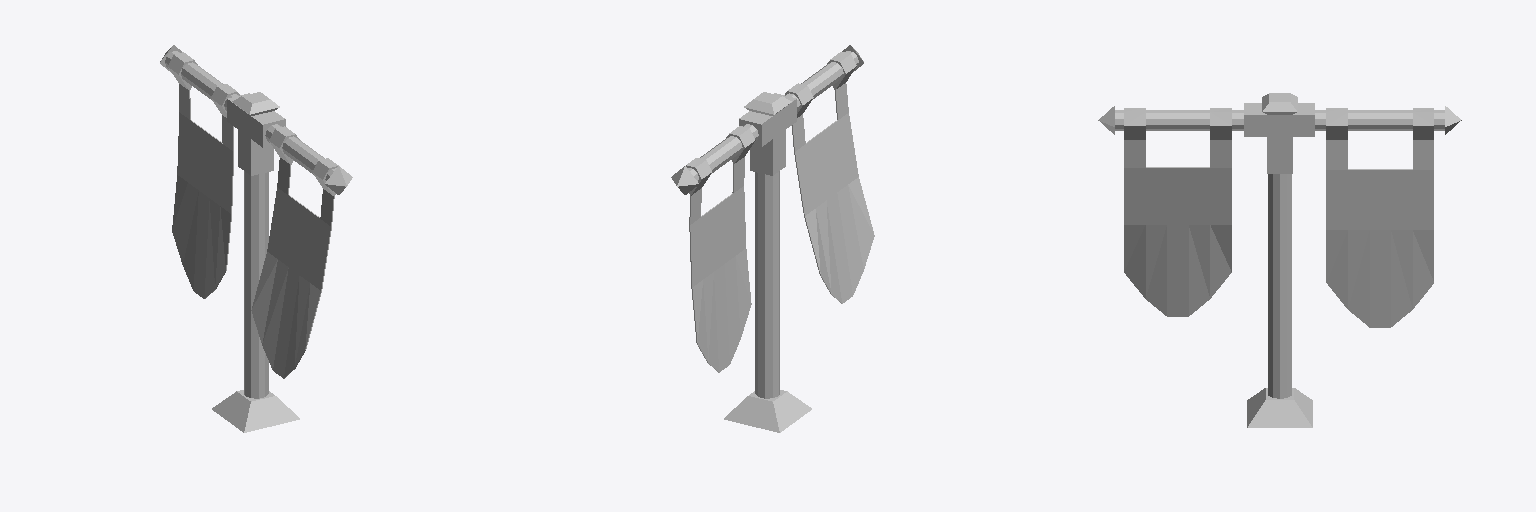
The model's file is FlagBlue5.obj.
The picture shows the model from 3 angles: view 1: azimuth 30°, elevation 25°; view 2: azimuth 150°, elevation 25°; view 3: azimuth 270°, elevation 25°; orthographic projection.
Visible parts, largest first — view 1: polySurface2; view 2: polySurface2; view 3: polySurface2.
Part boxes in pixels (left/top/right/bottom): polySurface2: left=160, top=45, right=352, bottom=432; polySurface2: left=671, top=45, right=874, bottom=432; polySurface2: left=1098, top=93, right=1461, bottom=427.
Size of the model in its own units: 1.01 by 5.29 by 5.51.